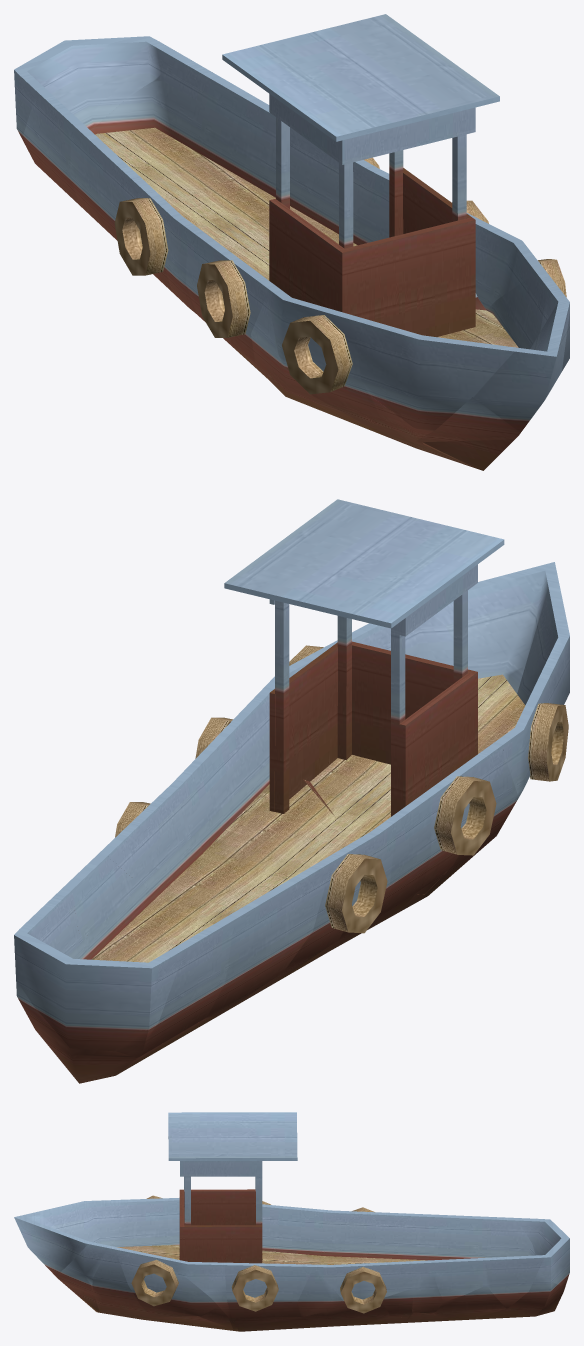
The model's file is Boat36.FBX.
The picture shows the model from 3 angles, top to bottom: view 1: azimuth 30°, elevation 25°; view 2: azimuth 150°, elevation 25°; view 3: azimuth 270°, elevation 25°; orthographic projection. The views are drawn at different scales.
Parts seen in each view (by area): view 1: Boat_Part_22, Boat_Part_23, Boat_Part_21, Boat_Part_13, Boat_Part_35, Boat_Part_1, Boat_Part_16, Boat_Part_18, Boat_Part_17, Boat_Part_11, Boat_Part_6, Boat_Part_7 (+18 smaller); view 2: Boat_Part_23, Boat_Part_22, Boat_Part_13, Boat_Part_16, Boat_Part_35, Boat_Part_31, Boat_Part_1, Boat_Part_25, Boat_Part_17, Boat_Part_36, Boat_Part_14, Boat_Part_21 (+18 smaller); view 3: Boat_Part_23, Boat_Part_22, Boat_Part_31, Boat_Part_6, Boat_Part_16, Boat_Part_21, Boat_Part_35, Boat_Part_28, Boat_Part_25, Boat_Part_33, Boat_Part_1, Boat_Part_5 (+18 smaller).
Part boxes in pixels (x1,y1,x2,y2): Boat_Part_22: (267, 83, 483, 443); Boat_Part_23: (197, 58, 527, 380); Boat_Part_21: (354, 102, 515, 431); Boat_Part_13: (14, 36, 160, 144); Boat_Part_35: (222, 14, 446, 154); Boat_Part_1: (473, 300, 569, 432); Boat_Part_16: (70, 121, 144, 249); Boat_Part_18: (92, 79, 172, 168); Boat_Part_17: (23, 74, 162, 205); Boat_Part_11: (200, 76, 266, 179); Boat_Part_6: (478, 259, 566, 347); Boat_Part_7: (156, 40, 218, 145); Boat_Part_23: (253, 512, 502, 894); Boat_Part_22: (320, 511, 568, 800); Boat_Part_13: (14, 926, 185, 1051); Boat_Part_16: (181, 862, 360, 1037); Boat_Part_35: (224, 538, 414, 676); Boat_Part_31: (185, 672, 297, 816); Boat_Part_1: (433, 562, 559, 674); Boat_Part_25: (274, 794, 431, 947); Boat_Part_17: (45, 917, 234, 1057); Boat_Part_36: (221, 765, 337, 842); Boat_Part_14: (222, 848, 387, 1013); Boat_Part_21: (366, 506, 569, 723); Boat_Part_23: (175, 1112, 280, 1293); Boat_Part_22: (132, 1112, 215, 1259); Boat_Part_31: (224, 1212, 313, 1311); Boat_Part_6: (115, 1247, 218, 1316); Boat_Part_16: (368, 1209, 478, 1261); Boat_Part_21: (36, 1139, 173, 1247); Boat_Part_35: (228, 1112, 297, 1212); Boat_Part_28: (313, 1209, 377, 1264); Boat_Part_25: (238, 1206, 322, 1331); Boat_Part_33: (356, 1260, 437, 1312); Boat_Part_1: (14, 1212, 89, 1275); Boat_Part_5: (92, 1246, 151, 1320).
Bounding box in the file's own units: 4.96 × 5.54 × 15.84.
